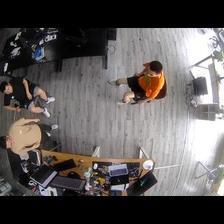normal: (107, 58, 167, 108), (1, 75, 55, 118)
